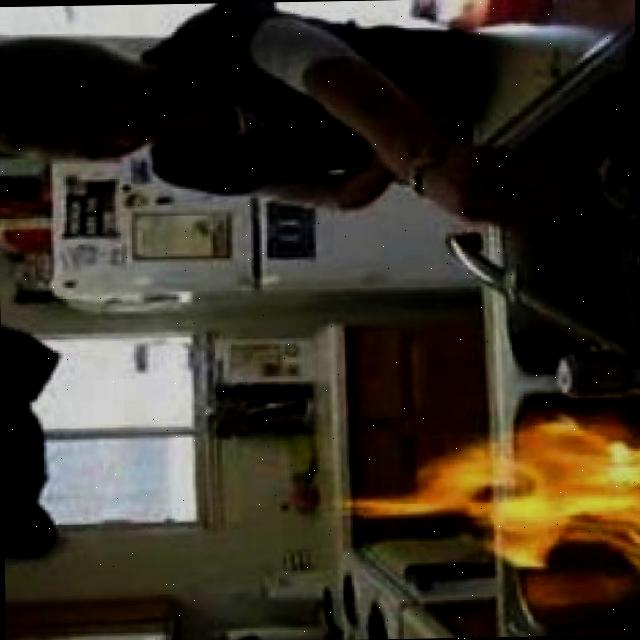fire: (356, 413, 640, 571)
